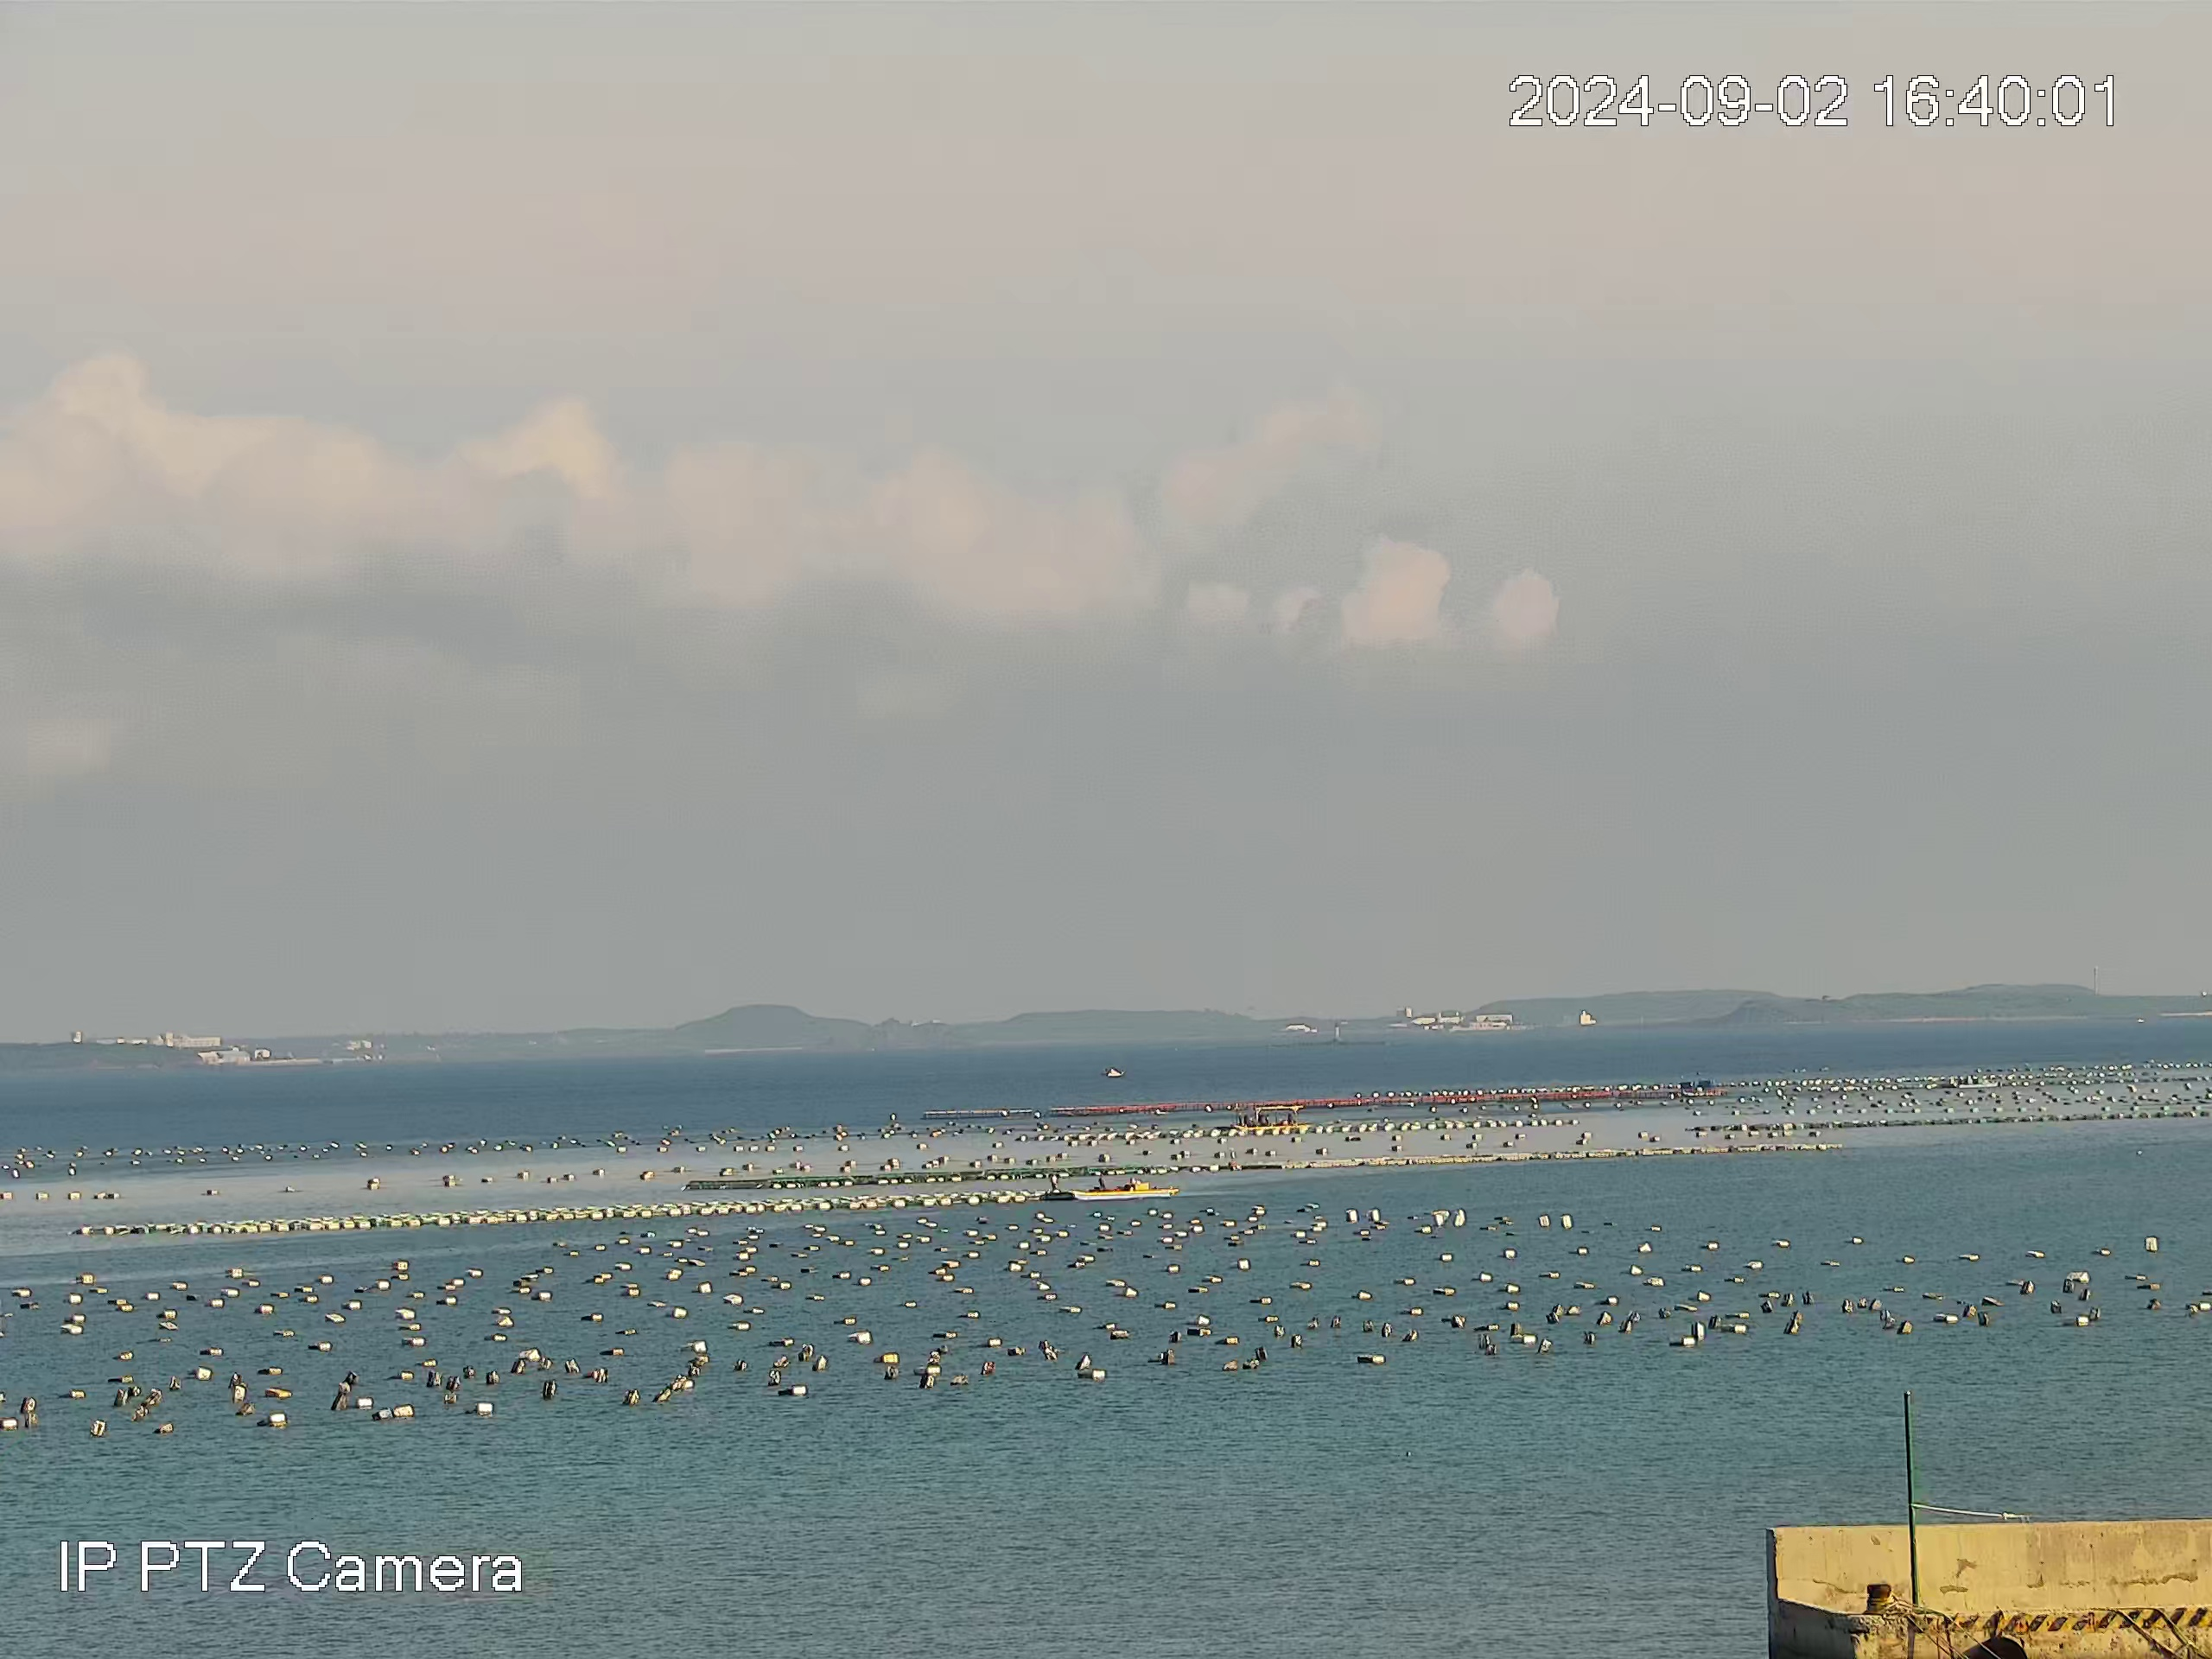boat: (1038, 1173, 1181, 1202), (1230, 1103, 1308, 1131), (1956, 1073, 2000, 1089), (1104, 1066, 1125, 1079)
